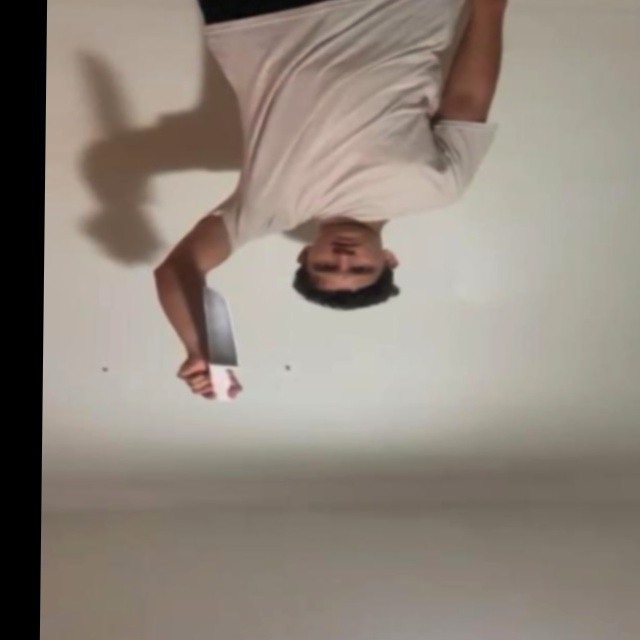Sharp-Object: (200, 290, 233, 368)
